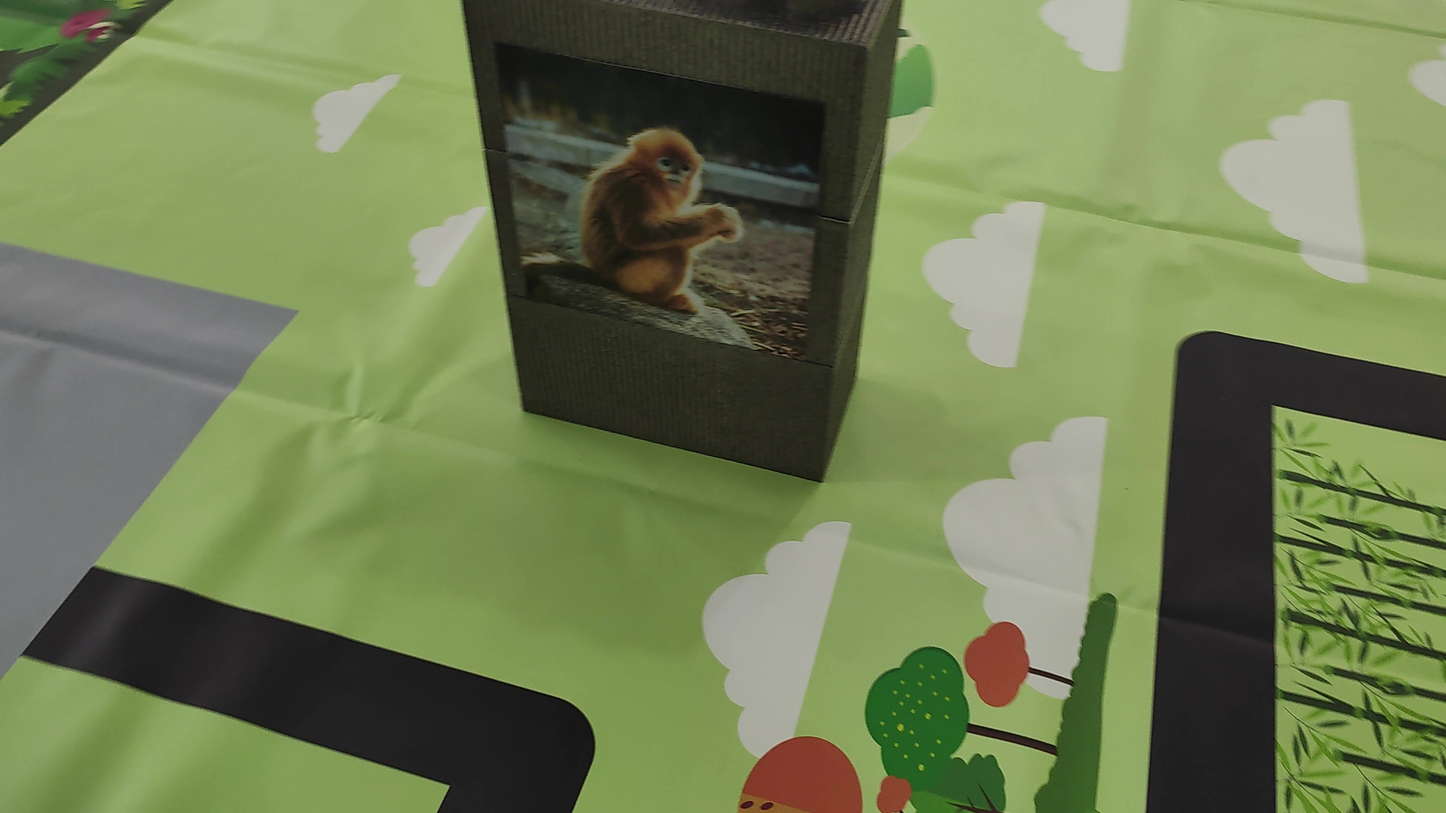monkey: (535, 94, 811, 324)
